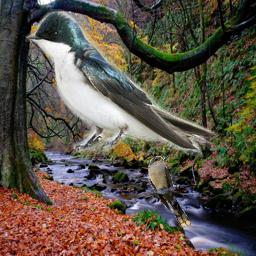Cuckoo: (148, 156, 191, 228)
Swallow: (25, 8, 218, 157)
